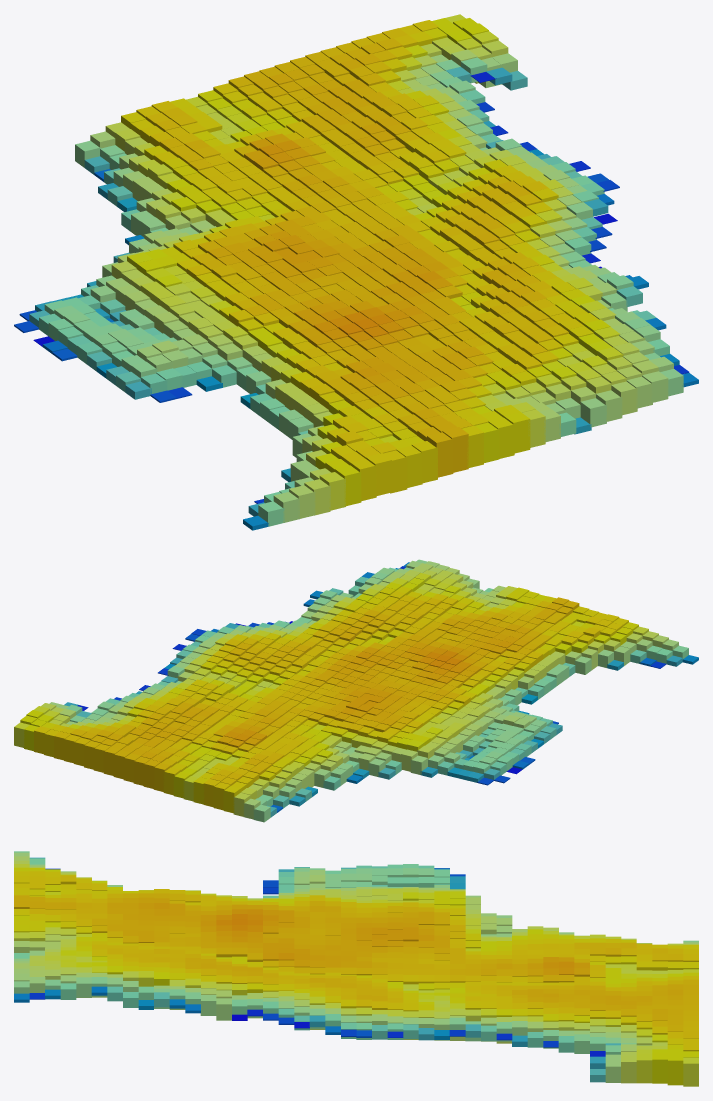
The model's file is population.glb.
3 renders of one model, top to bottom at view 1: azimuth 30°, elevation 25°; view 2: azimuth 150°, elevation 25°; view 3: azimuth 270°, elevation 25°, orthographic. The views are drawn at different scales.
Parts seen in each view (by area): view 1: population; view 2: population; view 3: population.
Part boxes in pixels (<box>): population: <box>14,14,698,530</box>; population: <box>14,559,698,822</box>; population: <box>14,851,698,1086</box>.
Size of the model in its own units: 3769 by 365 by 4378.
